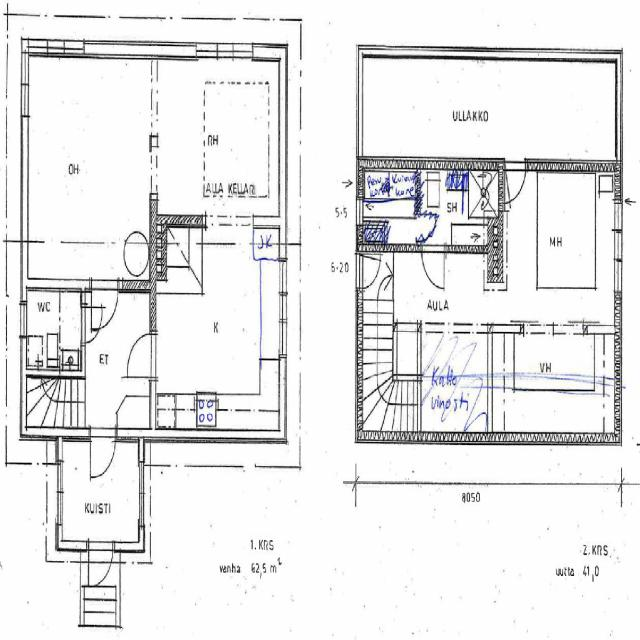door: (92, 280, 118, 335), (124, 333, 155, 377), (90, 430, 114, 484), (89, 542, 112, 593), (504, 160, 526, 208), (355, 254, 383, 290), (422, 245, 444, 290), (82, 307, 106, 343)
